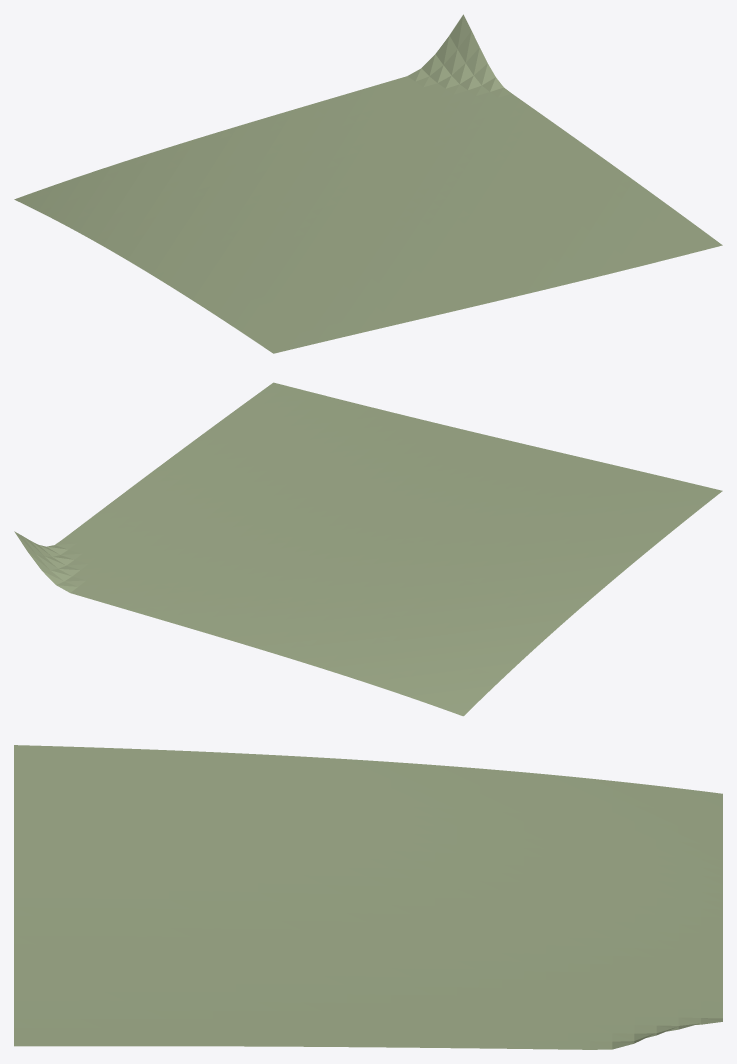
Rendered from expanse-14-20.glb.
3 renders of one model, top to bottom at view 1: azimuth 30°, elevation 25°; view 2: azimuth 150°, elevation 25°; view 3: azimuth 270°, elevation 25°, orthographic. The views are drawn at different scales.
Visible parts, largest first — view 1: expanse-14-20; view 2: expanse-14-20; view 3: expanse-14-20.
Part boxes in pixels (bbox=[...]): expanse-14-20: bbox=[14, 14, 722, 353]; expanse-14-20: bbox=[14, 382, 722, 716]; expanse-14-20: bbox=[14, 745, 722, 1049].
Bounding box in the file's own units: 256 × 41.17 × 256.
